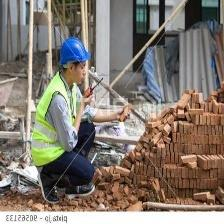Person: (29, 36, 131, 204)
helmet: (58, 34, 91, 68)
vest: (30, 72, 78, 170)
